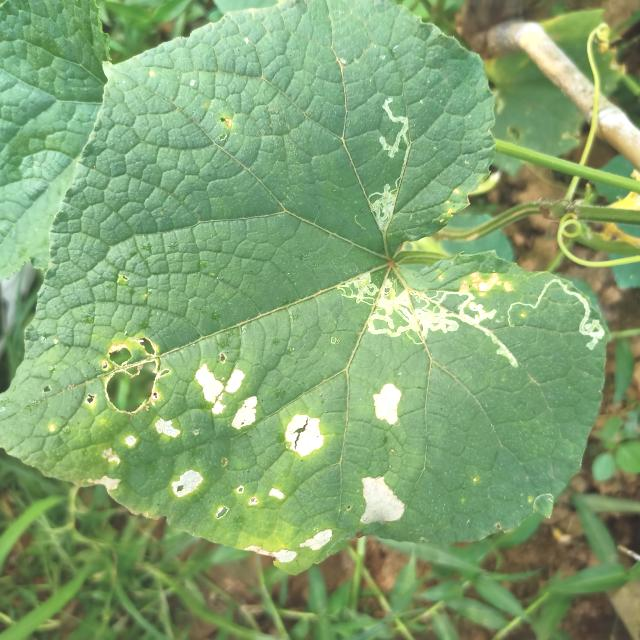disease_cucumber: (81, 326, 337, 568), (352, 465, 414, 535), (367, 374, 407, 433)
